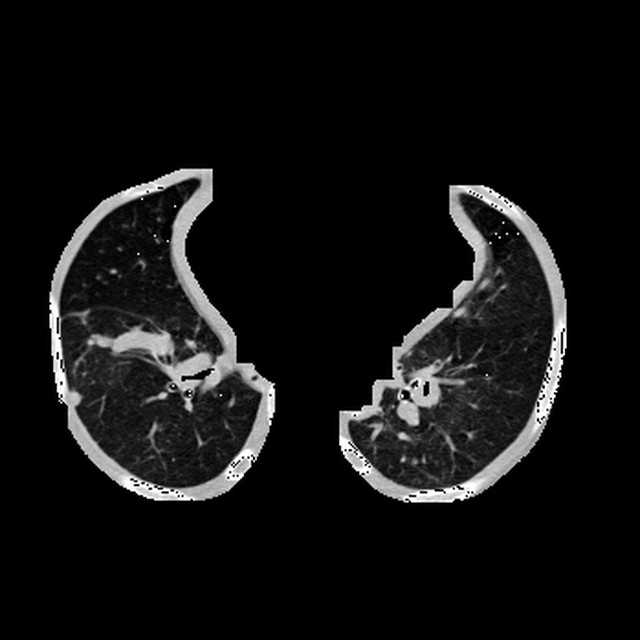PN: (68, 391, 83, 405)
